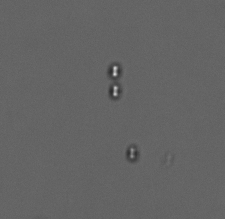Living Cell: (108, 62, 123, 79), (126, 144, 139, 163), (109, 83, 123, 100)
